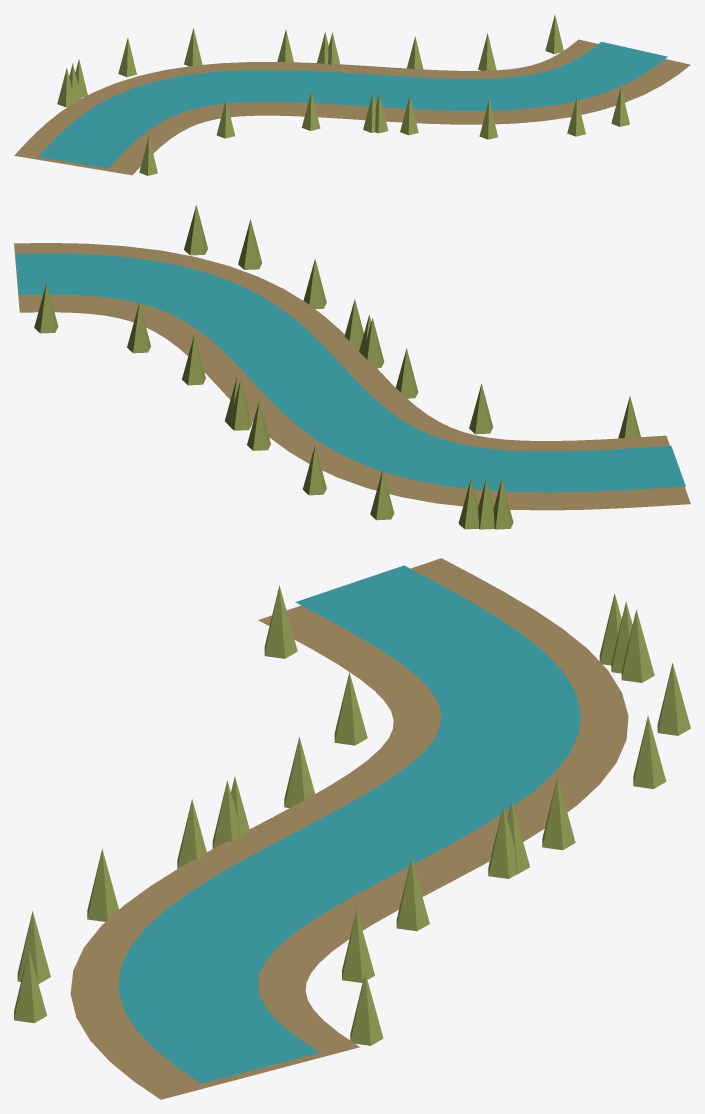
Rendered from FEATURE_FLOODPLAINS_v00.fbx.
3 views of the same model, one above another, from view 1: azimuth 30°, elevation 25°; view 2: azimuth 150°, elevation 25°; view 3: azimuth 270°, elevation 25° (orthographic). The views are drawn at different scales.
Parts seen in each view (by area): view 1: River_channel, Alluvial_banks, Riparian_grass.005, Riparian_grass.001, Riparian_grass.012, Riparian_grass.019, Riparian_grass.002, Riparian_grass.004, Riparian_grass.014, Riparian_grass.003, Riparian_grass.017, Riparian_grass.018 (+6 smaller); view 2: River_channel, Alluvial_banks, Riparian_grass.005, Riparian_grass.013, Riparian_grass.010, Riparian_grass.017, Riparian_grass.002, Riparian_grass.003, Riparian_grass.009, Riparian_grass.019, Riparian_grass, Riparian_grass.016 (+8 smaller); view 3: River_channel, Alluvial_banks, Riparian_grass.017, Riparian_grass.016, Riparian_grass.002, Riparian_grass.004, Riparian_grass.013, Riparian_grass.009, Riparian_grass.005, Riparian_grass.011, Riparian_grass.003, Riparian_grass (+7 smaller).
Boxes of the visible parts, x1,y1,x2,y2 form: River_channel: (38, 41, 667, 168); Alluvial_banks: (14, 39, 690, 175); Riparian_grass.005: (611, 87, 629, 126); Riparian_grass.001: (400, 96, 418, 135); Riparian_grass.012: (479, 100, 497, 139); Riparian_grass.019: (567, 97, 585, 136); Riparian_grass.002: (216, 99, 234, 138); Riparian_grass.004: (139, 136, 157, 175); Riparian_grass.014: (302, 91, 320, 130); Riparian_grass.003: (545, 14, 563, 53); Riparian_grass.017: (118, 38, 136, 76); Riparian_grass.018: (57, 68, 75, 107); River_channel: (15, 253, 685, 492); Alluvial_banks: (14, 243, 690, 510); Riparian_grass.005: (184, 205, 207, 255); Riparian_grass.013: (247, 400, 270, 450); Riparian_grass.010: (228, 380, 252, 430); Riparian_grass.017: (370, 469, 394, 520); Riparian_grass.002: (469, 384, 493, 434); Riparian_grass.003: (34, 283, 58, 333); Riparian_grass.009: (303, 445, 326, 495); Riparian_grass.019: (238, 219, 261, 269); Riparian_grass: (127, 302, 150, 353); Riparian_grass.016: (182, 335, 205, 385); River_channel: (118, 565, 580, 1083); Alluvial_banks: (70, 558, 628, 1099); Riparian_grass.017: (657, 662, 690, 735); Riparian_grass.016: (396, 858, 429, 931); Riparian_grass.002: (334, 672, 367, 745); Riparian_grass.004: (264, 585, 297, 658); Riparian_grass.013: (542, 777, 575, 850); Riparian_grass.009: (633, 716, 666, 788); Riparian_grass.005: (14, 949, 46, 1023); Riparian_grass.011: (621, 609, 654, 682); Riparian_grass.003: (350, 972, 383, 1045); Riparian_grass: (342, 909, 374, 982).
Size of the model in its own units: 174 by 10 by 92.14.
